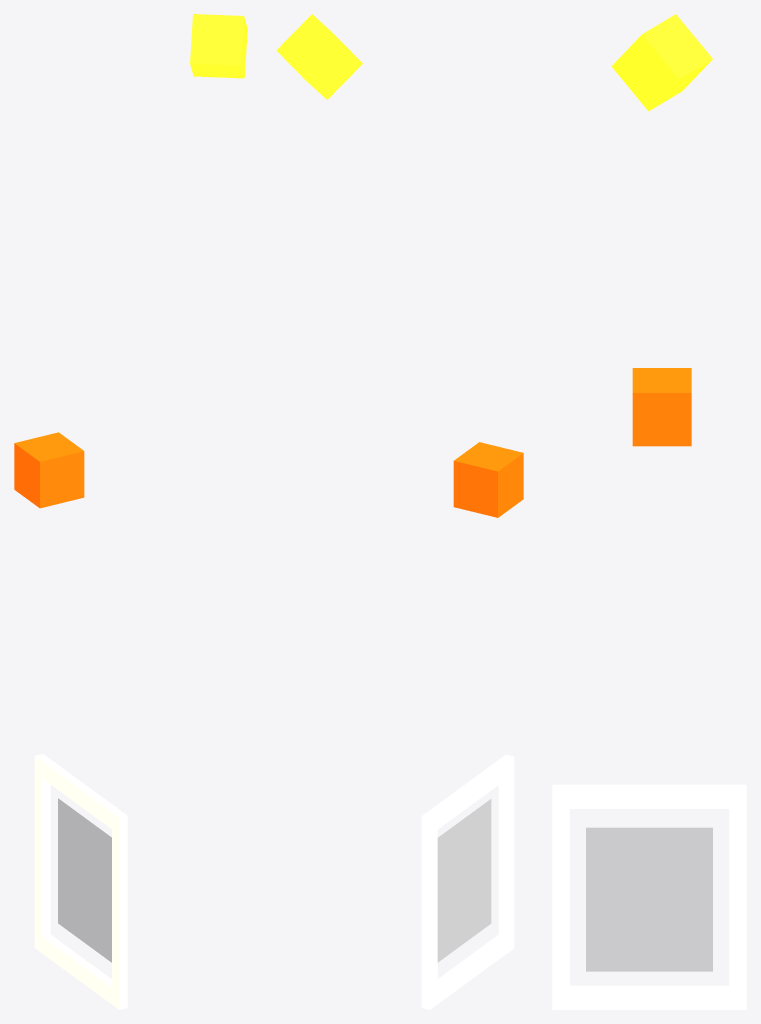
The model's file is red_shield.gltf.
3 renders of one model, left to right at view 1: azimuth 30°, elevation 25°; view 2: azimuth 150°, elevation 25°; view 3: azimuth 270°, elevation 25°, orthographic. The views are drawn at different scales.
Parts seen in each view (by area): view 1: particle.054, particle.062, particle.077; view 2: particle.054, particle.062, particle.077; view 3: particle.054, particle.077, particle.062.
Part boxes in pixels (box(x1,y1,x2,y2)): particle.054: box(34, 754, 127, 1009); particle.062: box(14, 432, 84, 508); particle.077: box(190, 14, 247, 78); particle.054: box(421, 754, 514, 1009); particle.062: box(453, 442, 523, 517); particle.077: box(276, 14, 362, 99); particle.054: box(552, 784, 746, 1009); particle.077: box(611, 14, 712, 111); particle.062: box(632, 368, 691, 446).
Size of what is drawn, in the model's own units: 0.2564 by 0.9946 by 0.1648.
